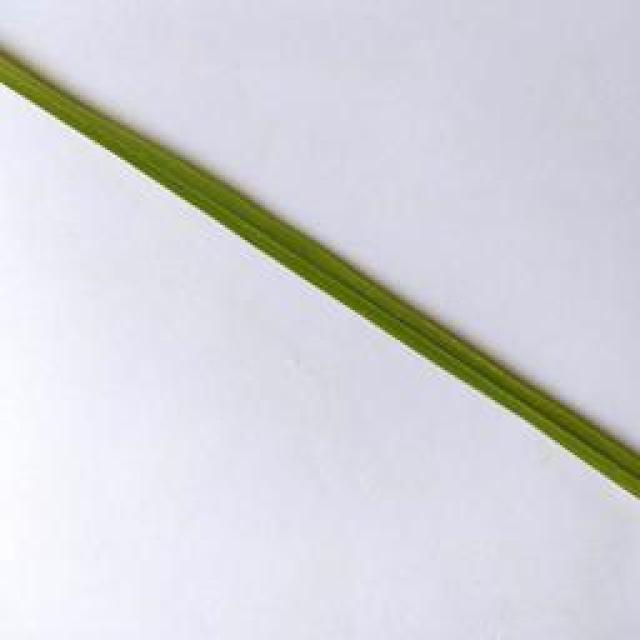Healthy-Plant: (120, 127, 402, 336)
